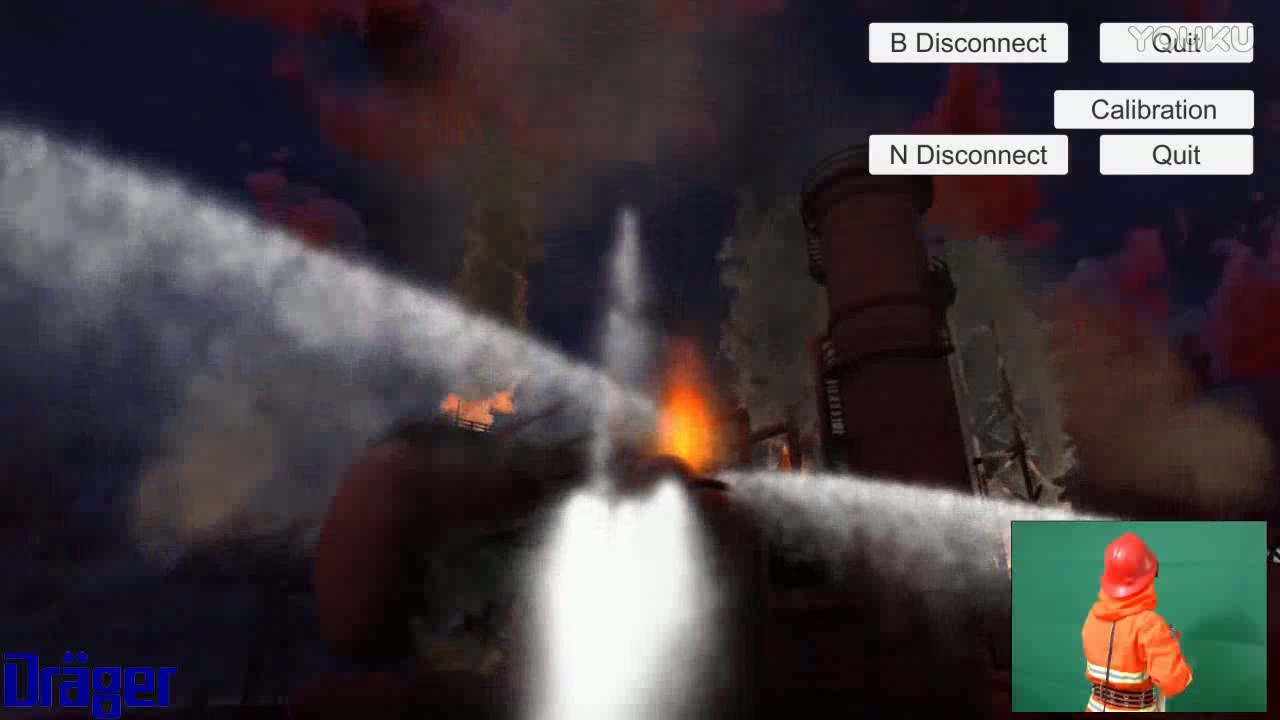fire: (645, 340, 725, 479)
